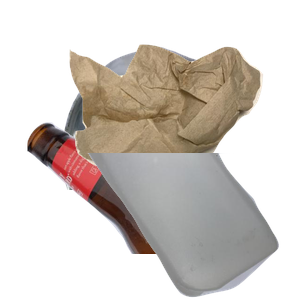glass: (25, 120, 265, 300)
metal: (60, 44, 300, 224)
plastic: (84, 153, 300, 300)
trash: (67, 42, 300, 206)
